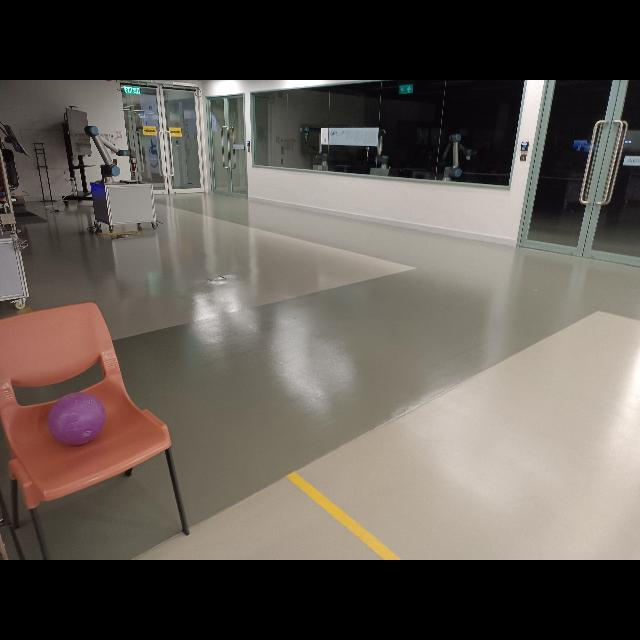P: (48, 392, 106, 446)
